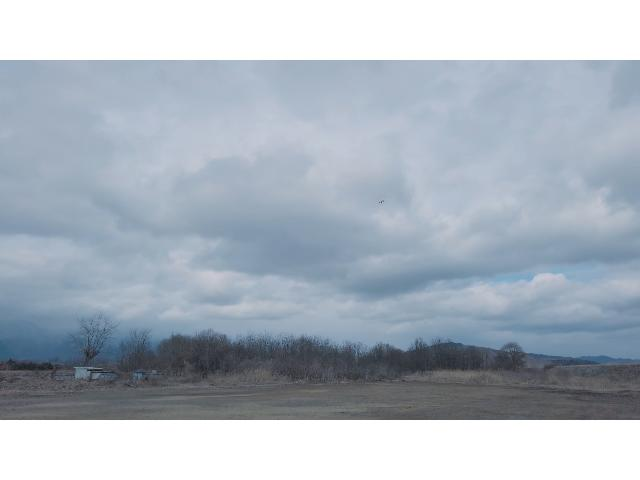Anti-Drone: (370, 194, 392, 211)
